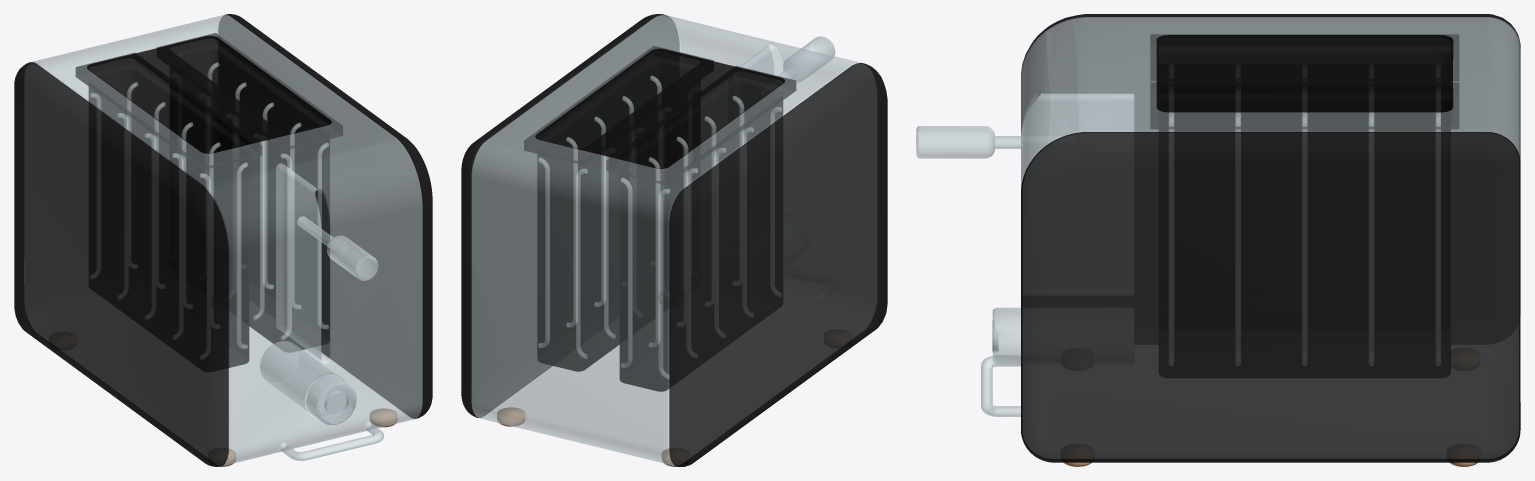
Rendered from toaster5.fbx.
3 renders of one model, left to right at view 1: azimuth 30°, elevation 25°; view 2: azimuth 150°, elevation 25°; view 3: azimuth 270°, elevation 25°, orthographic. The views are drawn at different scales.
Visible parts, largest first — view 1: carcass.001, side, carcass.000, side.001, knob, ejector handle, handle, heater element.014, heater element, heater element.017, foot.003, heater element.019; view 2: carcass.001, side, carcass.000, side.001, ejector handle, heater element.011, heater element.006, heater element.015, heater element.001, heater element.012, heater element.016, heater element.007 (+2 smaller); view 3: side.001, carcass.001, carcass.000, side, ejector handle, knob, handle.
Part boxes in pixels (box(x1,y1,x2,y2)): carcass.001: box(25, 15, 422, 465); side: box(14, 62, 228, 466); carcass.000: box(75, 33, 342, 367); side.001: box(218, 14, 432, 418); knob: box(306, 374, 356, 425); ejector handle: box(297, 216, 378, 280); handle: box(278, 422, 383, 460); heater element.014: box(253, 141, 264, 319); heater element: box(237, 162, 247, 348); heater element.017: box(262, 102, 273, 288); foot.003: box(370, 408, 397, 427); heater element.019: box(318, 143, 328, 328); carcass.001: box(471, 15, 876, 465); side: box(669, 63, 887, 466); carcass.000: box(524, 46, 796, 391); side.001: box(461, 14, 679, 417); ejector handle: box(778, 36, 835, 82); heater element.011: box(576, 169, 587, 358); heater element.006: box(621, 178, 632, 367); heater element.015: box(538, 158, 549, 347); heater element.001: box(658, 189, 669, 378); heater element.012: box(604, 156, 615, 338); heater element.016: box(566, 137, 577, 326); heater element.007: box(648, 157, 660, 347); side.001: box(1021, 132, 1520, 462); carcass.001: box(1021, 17, 1520, 458); carcass.000: box(1150, 34, 1459, 329); side: box(1021, 14, 1520, 158); ejector handle: box(916, 126, 1045, 158); knob: box(992, 307, 1020, 364); handle: box(981, 355, 1020, 416).
Size of the model in its own units: 15.45 by 18.21 by 29.35.
